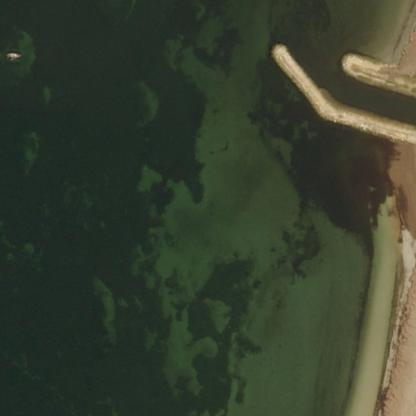ship: (7, 51, 19, 58)
